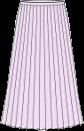Hemline: (0, 121, 83, 130)
Waistline: (20, 0, 62, 3)
